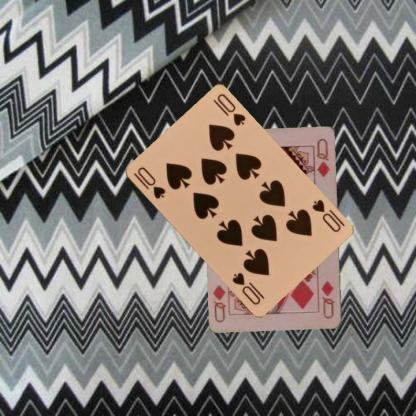10s: (130, 164, 166, 200), (309, 196, 342, 234)
Qd: (319, 279, 336, 320)
